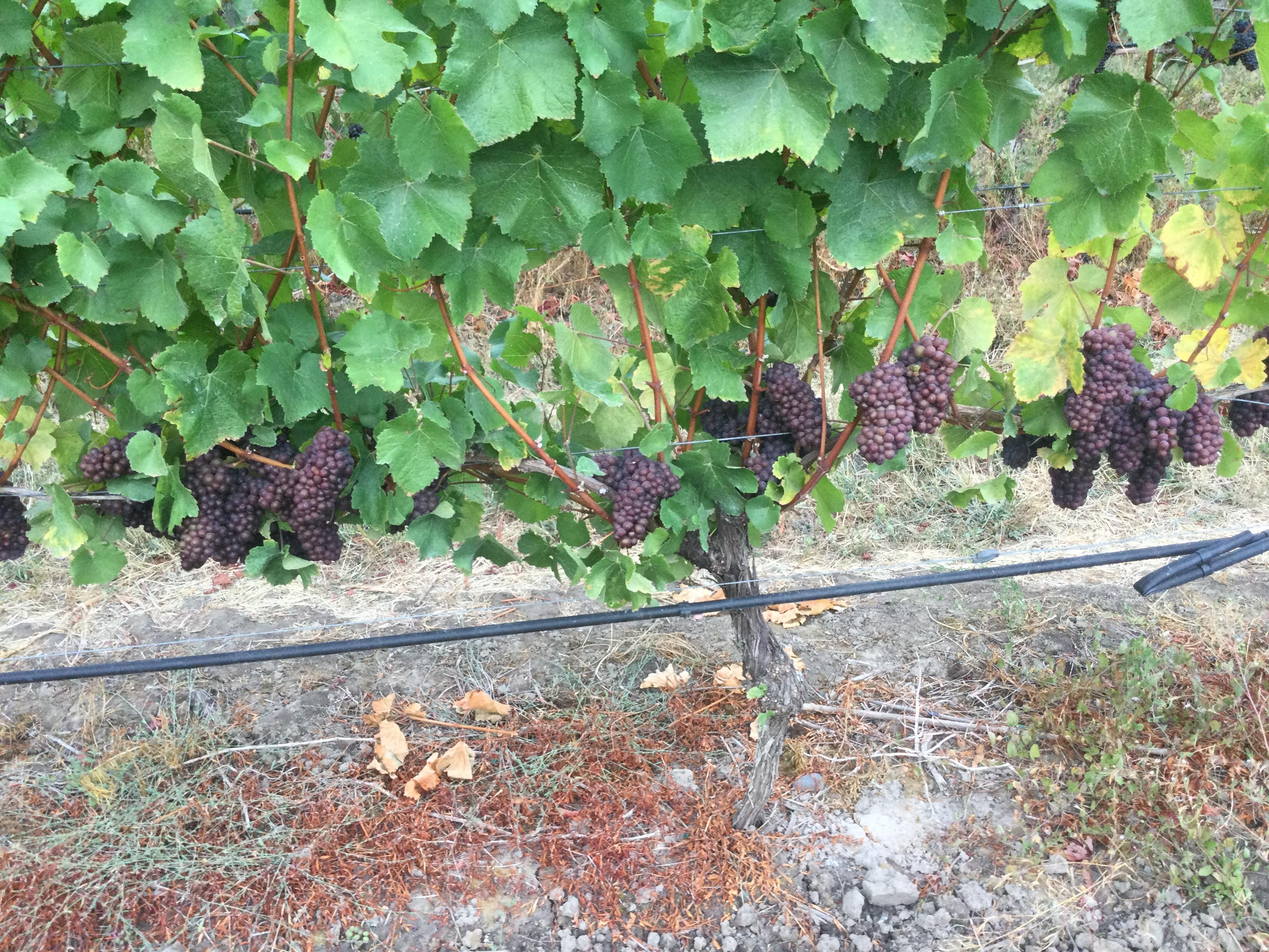leaf: (442, 4, 576, 144), (472, 125, 603, 249), (340, 139, 474, 260), (687, 50, 833, 161), (1059, 72, 1174, 192), (827, 143, 937, 267), (1005, 257, 1099, 401), (154, 341, 266, 457), (1029, 146, 1152, 247), (299, 0, 417, 95), (601, 99, 704, 205), (176, 209, 264, 324), (904, 56, 991, 170), (307, 190, 398, 296), (431, 219, 526, 319), (799, 6, 890, 110), (645, 248, 739, 345), (150, 93, 227, 210), (669, 154, 781, 231), (374, 400, 463, 493), (94, 159, 186, 244), (336, 310, 430, 392), (105, 239, 188, 329), (1159, 202, 1245, 288), (393, 92, 477, 180), (843, 63, 933, 145), (122, 0, 204, 90), (550, 304, 622, 405), (57, 22, 124, 130), (714, 229, 811, 299), (0, 149, 72, 240), (257, 341, 329, 425), (568, 0, 647, 76), (675, 441, 756, 514), (855, 0, 948, 61), (982, 51, 1038, 149), (579, 71, 642, 156), (687, 325, 753, 402), (1140, 262, 1215, 329), (1115, 0, 1214, 48), (28, 483, 88, 557), (768, 286, 817, 362), (244, 539, 319, 588), (939, 296, 996, 360), (708, 0, 776, 51), (0, 334, 51, 399), (762, 188, 817, 247), (152, 464, 199, 532), (489, 308, 542, 368), (55, 232, 108, 290), (580, 209, 633, 267), (653, 0, 705, 55), (452, 534, 516, 575), (69, 539, 126, 585), (1050, 0, 1098, 54), (457, 0, 536, 32), (264, 136, 321, 180), (935, 214, 983, 265), (965, 0, 1040, 31), (1172, 110, 1217, 161), (631, 214, 682, 258), (236, 83, 285, 127), (940, 424, 999, 458), (125, 430, 167, 477), (126, 374, 169, 417), (0, 0, 33, 56), (818, 271, 839, 330), (425, 241, 436, 255), (250, 290, 259, 296), (419, 146, 429, 151), (1025, 3, 1033, 6), (0, 25, 2, 32), (482, 0, 486, 2), (432, 53, 433, 60), (445, 102, 447, 105), (313, 0, 319, 1), (33, 513, 35, 515), (1102, 273, 1103, 276), (5, 0, 7, 1), (989, 0, 991, 1), (1019, 4, 1020, 5), (702, 4, 703, 5), (438, 256, 439, 256)
